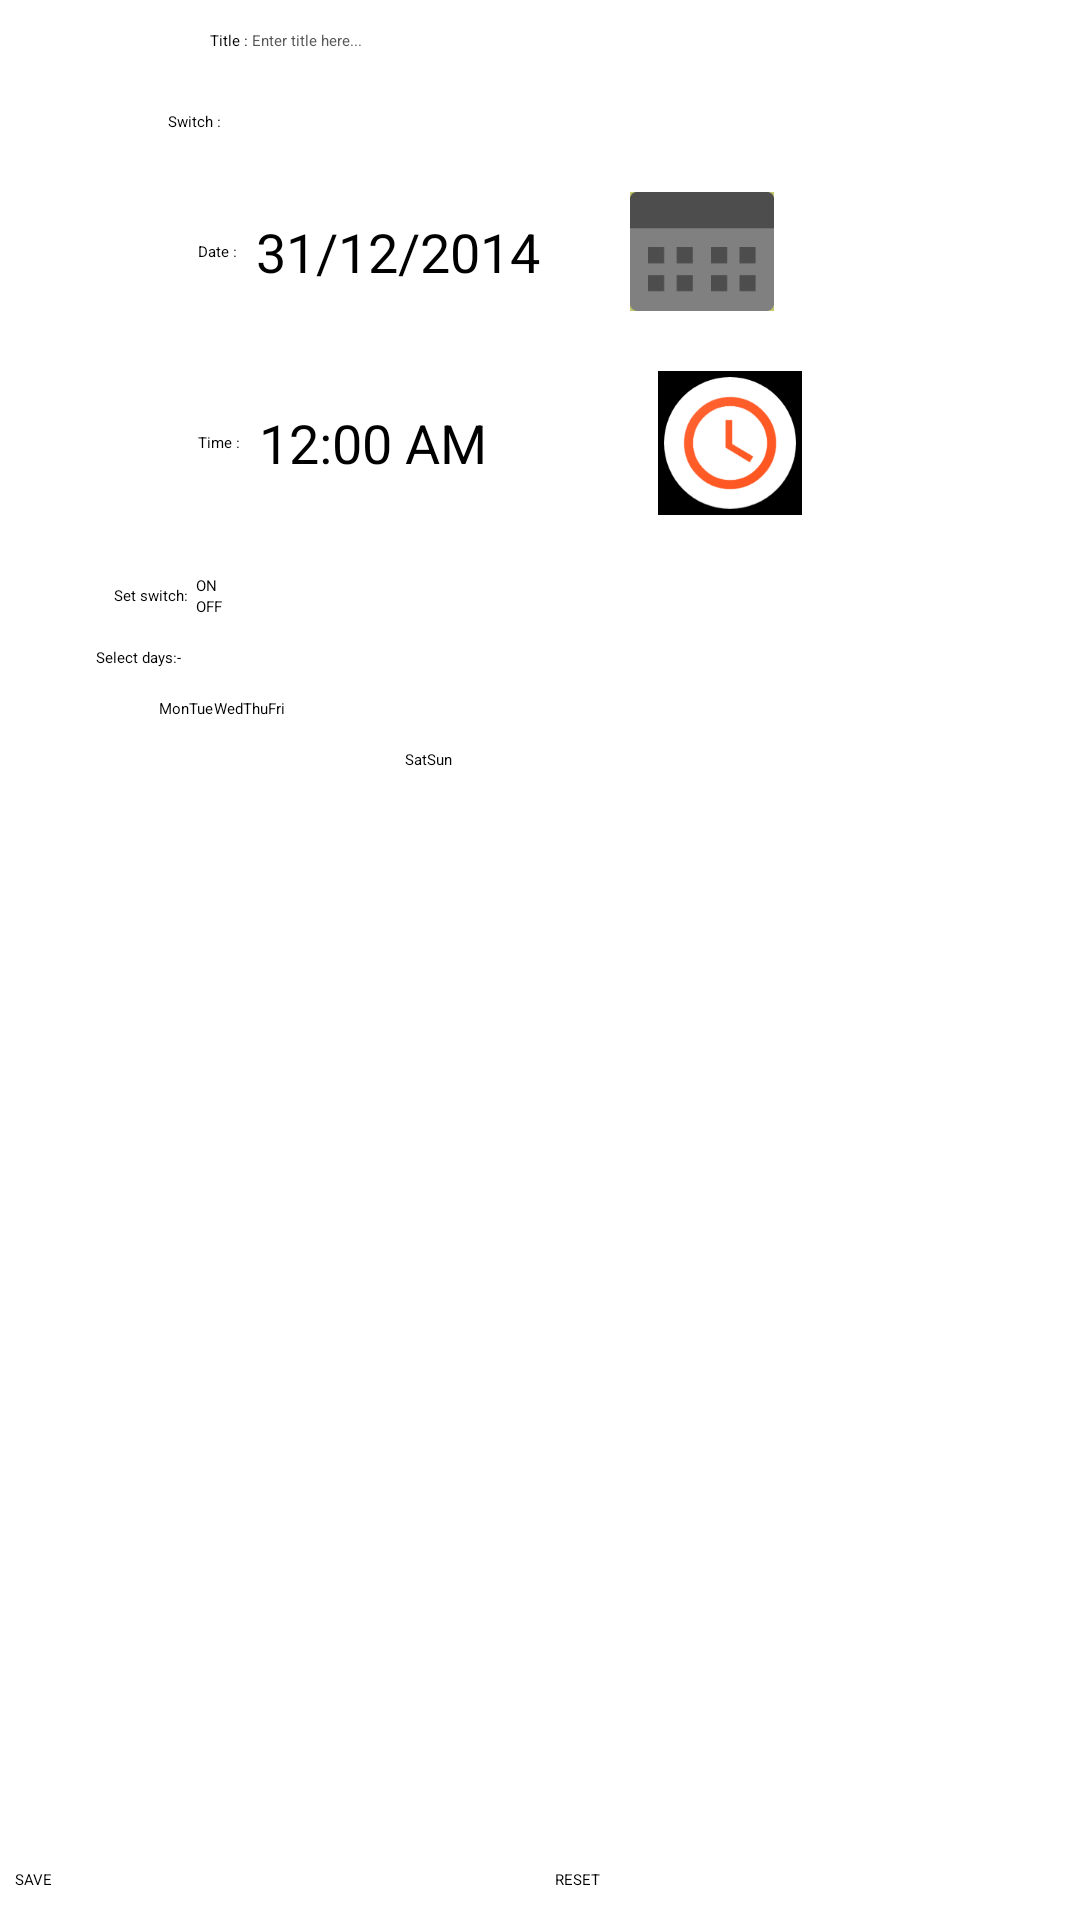

Named icons in this screenshot (1080x1920) and their bounding boxes, (x1, y1, x2, y2):
alarm: (658, 371, 802, 515)
calendar: (630, 192, 774, 311)
